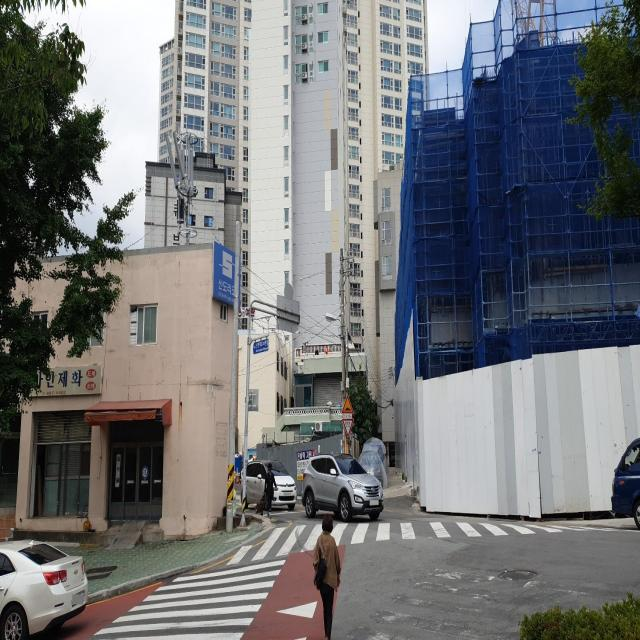횡단보도: (227, 520, 624, 567), (93, 558, 286, 638)
